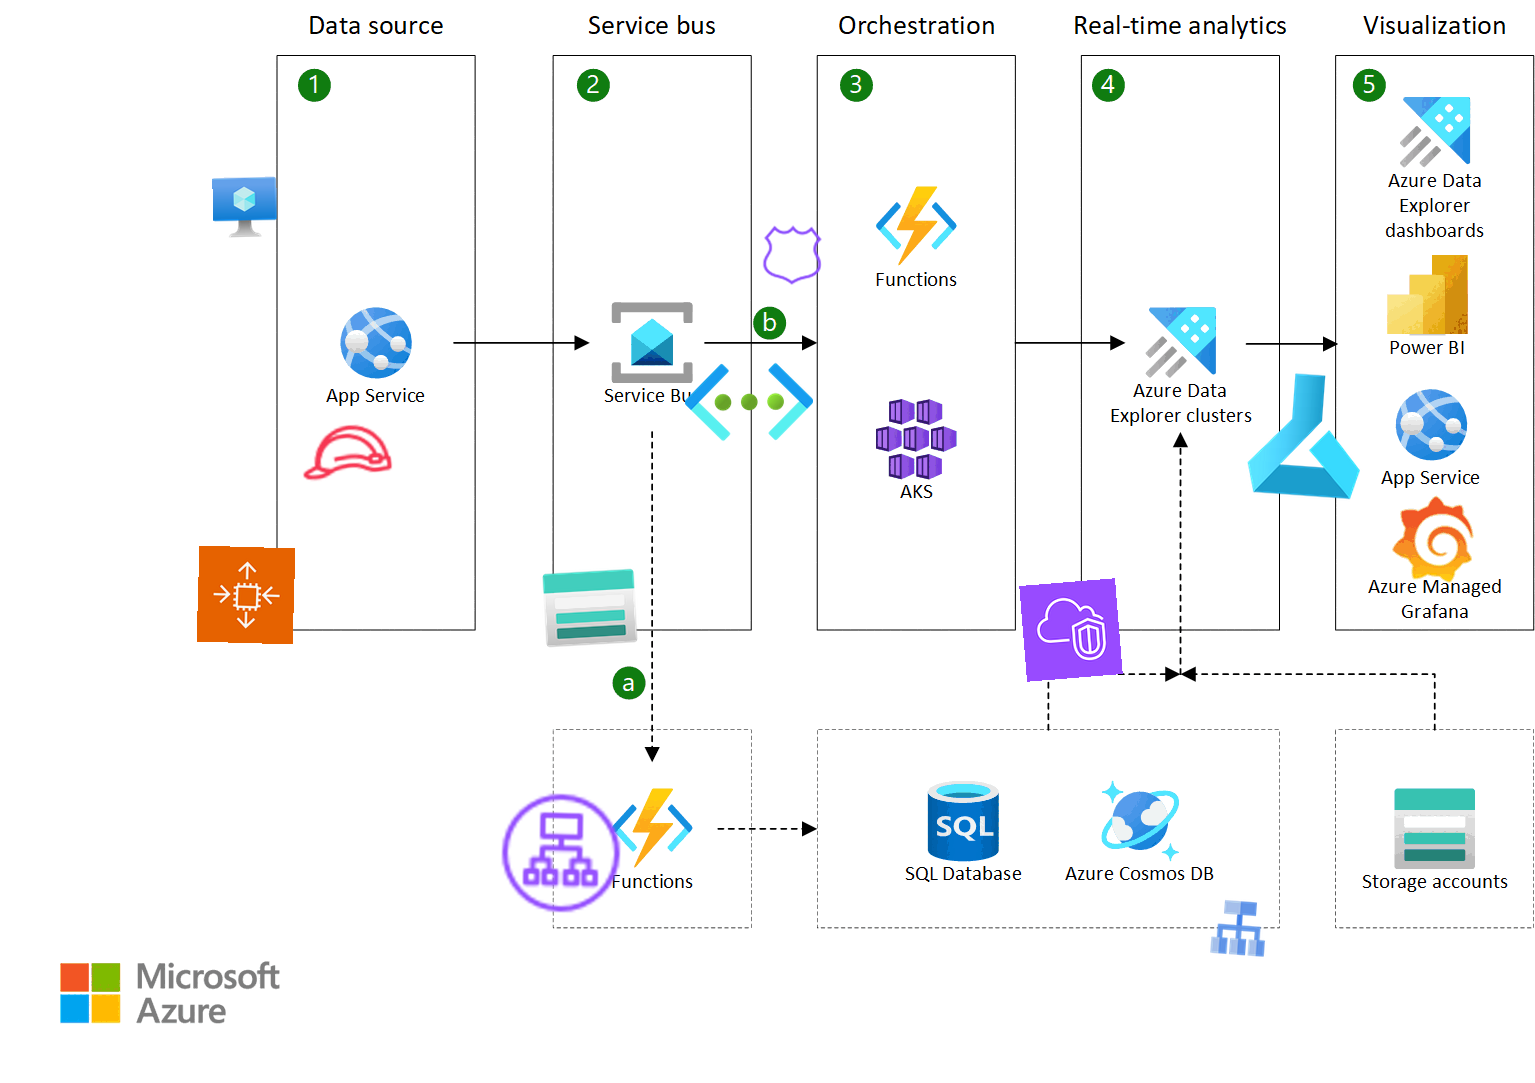aws_amazon_ec2_auto_scaling: (196, 545, 296, 645)
aws_amazon_virtual_private_cloud: (1019, 578, 1123, 682)
aws_elastic_load_balancing_application_load_balancer: (494, 786, 627, 919)
aws_identity_access_management_role: (294, 400, 398, 504)
aws_route_53_hosted_zone: (760, 222, 826, 288)
azure_machine_learning: (1237, 366, 1374, 504)
azure_storage_accounts: (539, 557, 641, 659)
azure_virtual_machine: (212, 176, 278, 241)
azure_virtual_networks: (684, 338, 814, 466)
gcp_cloud_load_balancing: (1205, 893, 1274, 963)
